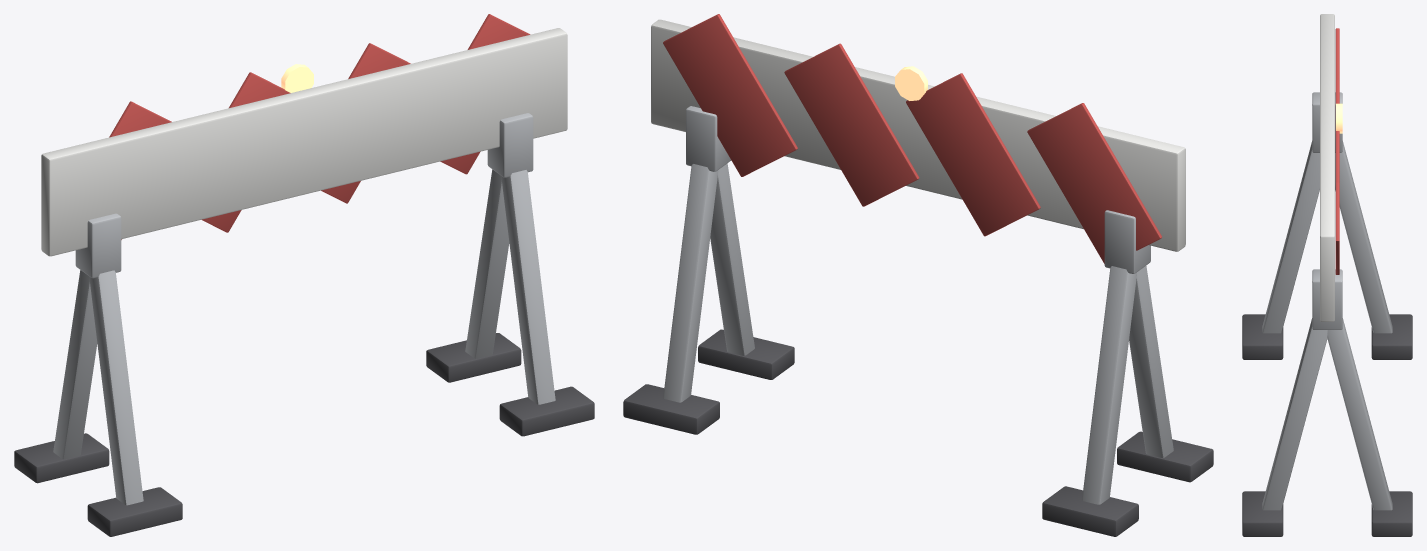
The model's file is th39_bake.glb.
The picture shows the model from 3 angles, left to right: view 1: azimuth 30°, elevation 25°; view 2: azimuth 150°, elevation 25°; view 3: azimuth 270°, elevation 25°; orthographic projection. The views are drawn at different scales.
Visible parts, largest first — view 1: Cube, Cube.005, Cube.010, Cube.006, Cube.011, Cube.008, Cube.013, Cube.014, Cube.009, Cube.007, Cube.012, Cube.003 (+4 smaller); view 2: Cube, Cube.003, Cube.002, Cube.004, Cube.001, Cube.011, Cube.006, Cube.010, Cube.005, Cube.009, Cube.014, Cube.008 (+4 smaller); view 3: Cube, Cube.010, Cube.011, Cube.005, Cube.006, Cube.008, Cube.009, Cube.013, Cube.014, Cube.012, Cube.007, Cube.004 (+2 smaller).
Boxes of the visible parts, x1,y1,x2,y2 form: Cube: (41,28,567,256); Cube.005: (89,270,143,505); Cube.010: (501,170,555,404); Cube.006: (53,270,97,459); Cube.011: (465,169,509,358); Cube.008: (87,487,182,536); Cube.013: (499,386,594,436); Cube.014: (426,333,521,382); Cube.009: (14,433,109,483); Cube.007: (75,213,121,278); Cube.012: (487,113,533,177); Cube.003: (321,43,410,203); Cube: (651,19,1185,251); Cube.003: (784,43,919,206); Cube.002: (906,73,1040,236); Cube.004: (663,14,797,176); Cube.001: (1027,103,1161,263); Cube.011: (663,164,718,402); Cube.006: (1082,266,1136,504); Cube.010: (710,163,754,355); Cube.005: (1129,266,1173,457); Cube.009: (1042,486,1138,536); Cube.014: (623,384,719,434); Cube.008: (1117,431,1213,482); Cube: (1320,14,1334,321); Cube.010: (1262,318,1327,510); Cube.011: (1327,318,1392,510); Cube.005: (1262,141,1319,333); Cube.006: (1335,141,1392,333); Cube.008: (1242,314,1283,359); Cube.009: (1371,314,1412,359); Cube.013: (1242,491,1283,536); Cube.014: (1371,491,1412,536); Cube.012: (1312,269,1342,329); Cube.007: (1312,92,1342,152); Cube.004: (1335,182,1339,274).
Bounding box in the file's own units: 1.55 × 1.08 × 0.5.
